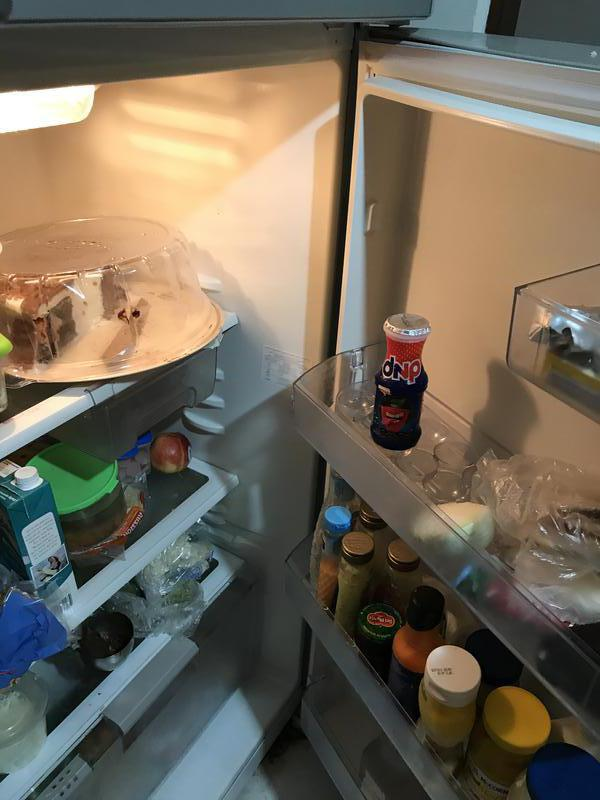danup: (371, 315, 430, 449)
